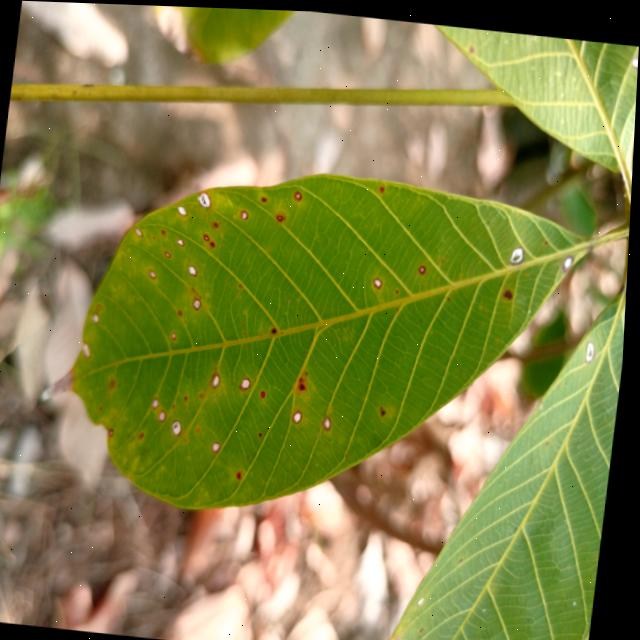Colletotrichum: (176, 417, 187, 434), (244, 374, 255, 387), (215, 370, 225, 384), (215, 438, 225, 450), (297, 407, 306, 420), (327, 413, 336, 426), (191, 263, 201, 273), (196, 296, 205, 307), (163, 407, 171, 419), (376, 274, 385, 284), (506, 285, 515, 294), (157, 395, 164, 406), (295, 189, 304, 197), (243, 208, 251, 216), (421, 261, 428, 269), (179, 236, 187, 243), (241, 468, 247, 476), (278, 212, 285, 218), (211, 238, 218, 244), (153, 268, 159, 275), (206, 231, 212, 237), (264, 387, 269, 394), (303, 380, 308, 386), (181, 307, 186, 313), (175, 330, 179, 337), (263, 194, 268, 199), (167, 250, 173, 254), (275, 324, 279, 330), (385, 406, 389, 411), (216, 220, 220, 224), (263, 429, 266, 433)
